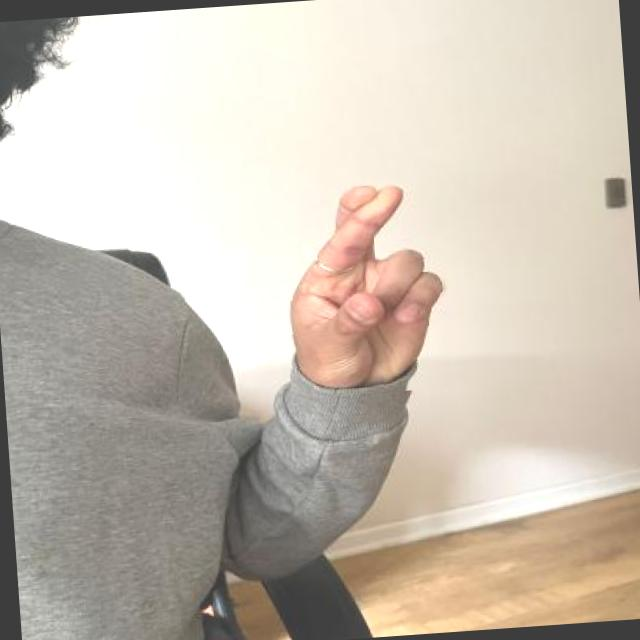R: (276, 172, 458, 398)
